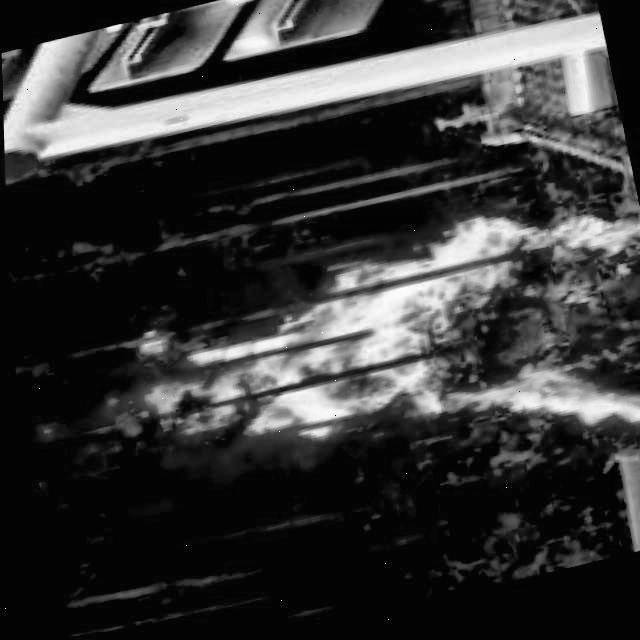Fire: (90, 187, 640, 552)
